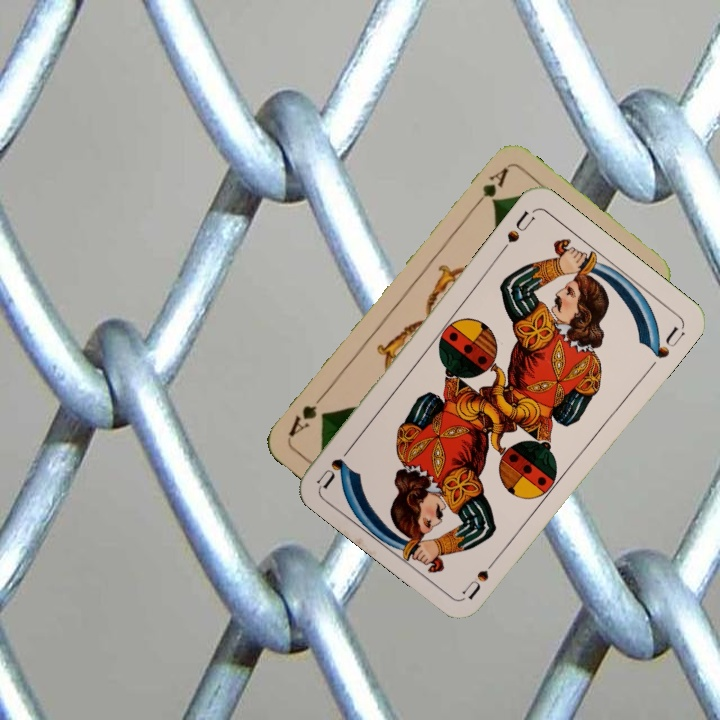GA: (467, 163, 511, 213)
SU: (458, 549, 504, 602), (495, 206, 538, 257)
